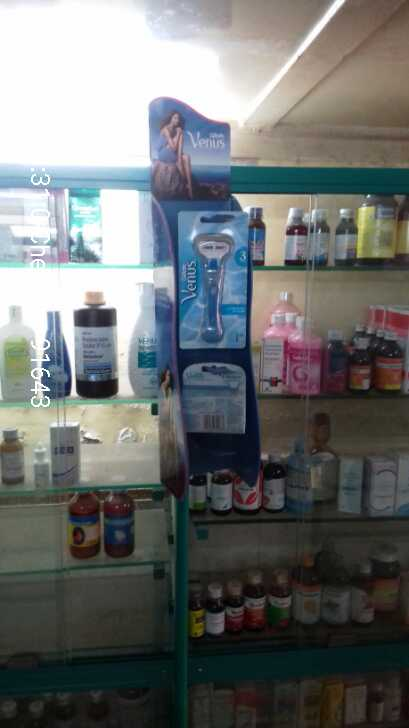venus: (175, 208, 254, 349)
